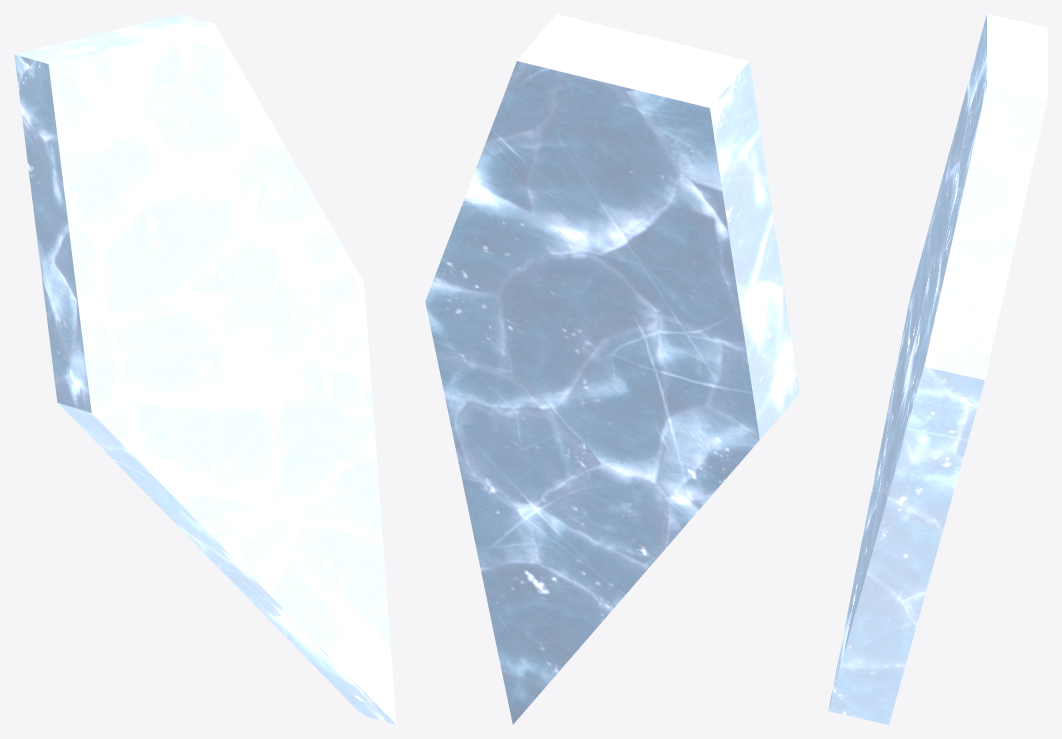
The model's file is Frag2.gltf.
The picture shows the model from 3 angles, left to right: view 1: azimuth 30°, elevation 25°; view 2: azimuth 150°, elevation 25°; view 3: azimuth 270°, elevation 25°; orthographic projection. The views are drawn at different scales.
Parts seen in each view (by area): view 1: 2; view 2: 2; view 3: 2.
Part boxes in pixels (x1,y1,x2,y2): 2: [14, 14, 396, 724]; 2: [425, 14, 799, 724]; 2: [828, 14, 1047, 724].
Bounding box in the file's own units: 0.21 × 0.4831 × 0.1605.
